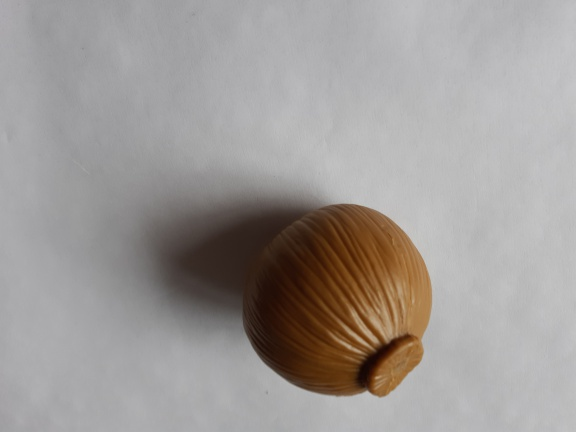onion: (227, 200, 441, 405)
